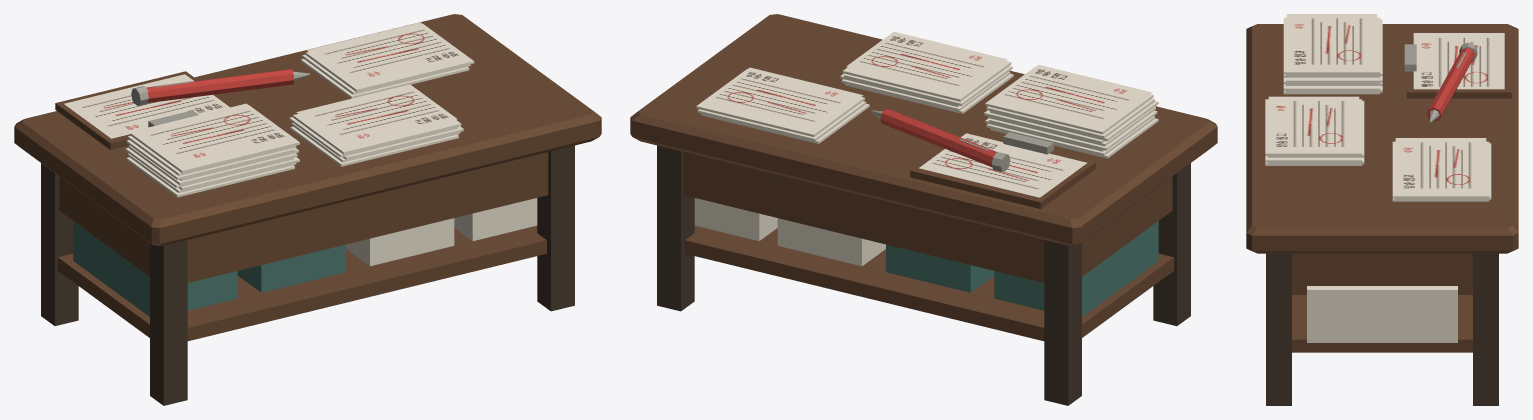
The model's file is S03_Corrected_Broadcast_Scripts.fbx.
The picture shows the model from 3 angles, left to right: view 1: azimuth 30°, elevation 25°; view 2: azimuth 150°, elevation 25°; view 3: azimuth 270°, elevation 25°; orthographic projection. The views are drawn at different scales.
Parts seen in each view (by area): view 1: Structure, Script_Stack_01, Script_Stack_02, Script_Stack_03, Red_Pen; view 2: Structure, Script_Stack_01, Script_Stack_02, Script_Stack_03, Red_Pen; view 3: Structure, Script_Stack_01, Script_Stack_02, Script_Stack_03, Red_Pen.
Boxes of the visible parts, <box> form: Structure: <box>14,14,601,405</box>; Script_Stack_01: <box>125,103,299,197</box>; Script_Stack_02: <box>289,84,463,166</box>; Script_Stack_03: <box>300,22,474,98</box>; Red_Pen: <box>131,69,310,105</box>; Structure: <box>630,14,1217,405</box>; Script_Stack_01: <box>984,65,1158,158</box>; Script_Stack_02: <box>840,31,1013,113</box>; Script_Stack_03: <box>696,67,869,143</box>; Red_Pen: <box>871,109,1010,171</box>; Structure: <box>1246,24,1518,405</box>; Script_Stack_01: <box>1283,14,1382,94</box>; Script_Stack_02: <box>1265,96,1364,165</box>; Script_Stack_03: <box>1392,138,1491,201</box>; Red_Pen: <box>1426,42,1477,122</box>.
Size of the model in its own units: 2.45 by 1.17 by 1.35.
7 materials, 1 textured.
